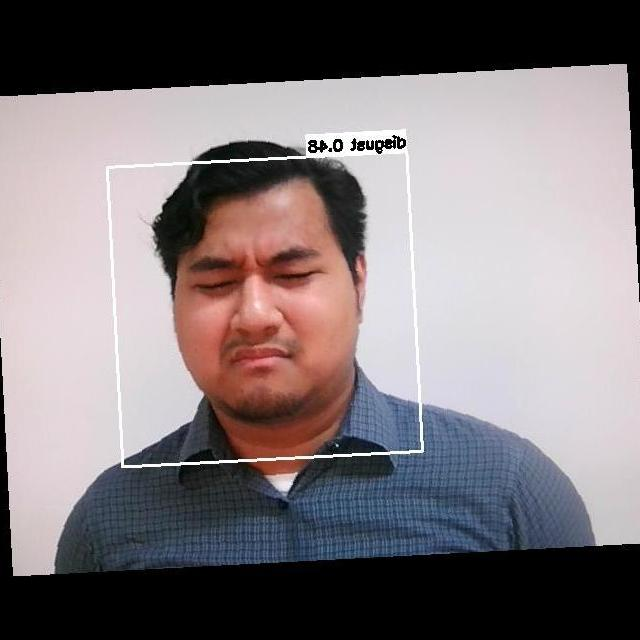Disgust: (165, 225, 344, 392)
